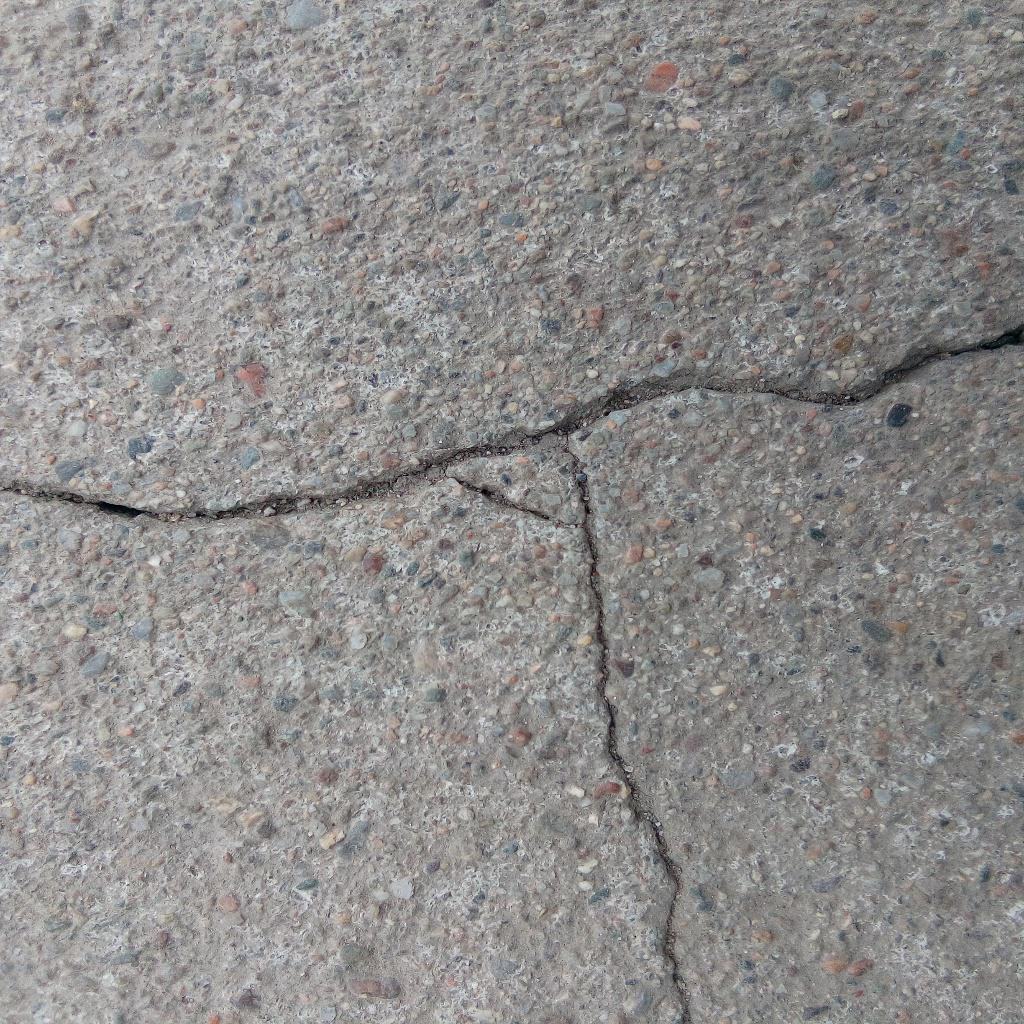Crack: (559, 440, 692, 1024), (558, 324, 1024, 441), (1, 429, 559, 520)
